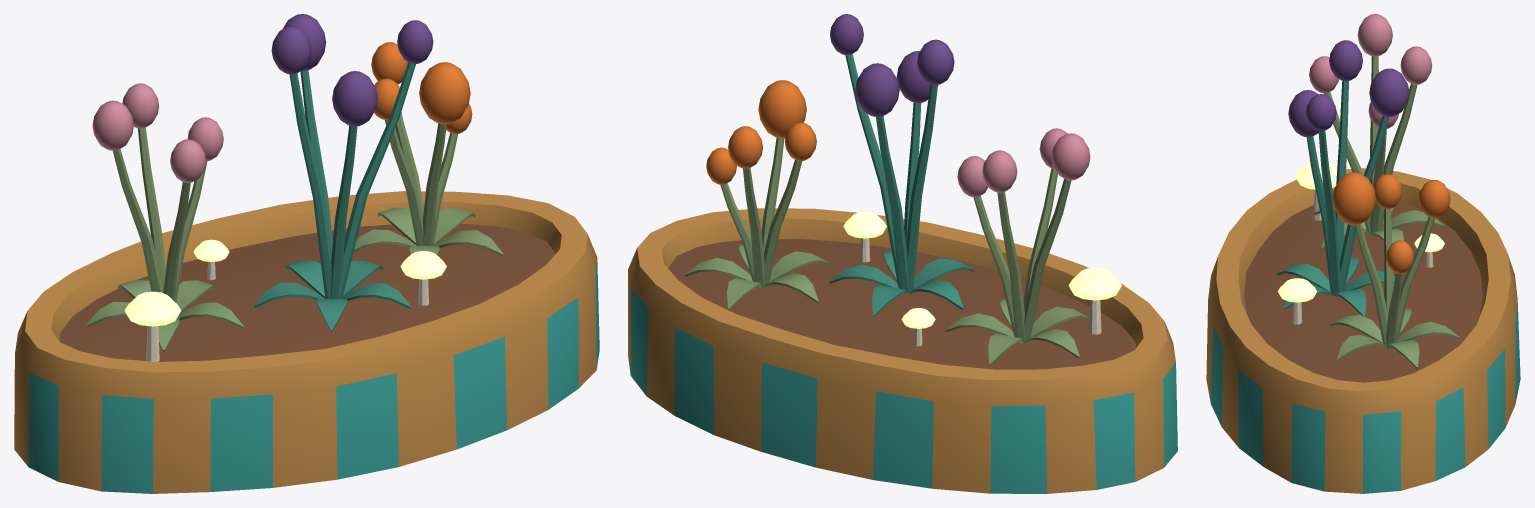
File: deco_planter_bed_bulbs.fbx
3 views of the same model, side by side, from view 1: azimuth 30°, elevation 25°; view 2: azimuth 150°, elevation 25°; view 3: azimuth 270°, elevation 25° (orthographic). The views are drawn at different scales.
Parts seen in each view (by area): view 1: PlanterBed_Bulbs_Bed, PlanterBed_Bulbs_Soil, PlanterBed_Bulbs_Bulbs2, PlanterBed_Bulbs_Bulbs1, PlanterBed_Bulbs_Bulbs3, PlanterBed_Bulbs_Mushrooms; view 2: PlanterBed_Bulbs_Bed, PlanterBed_Bulbs_Soil, PlanterBed_Bulbs_Bulbs2, PlanterBed_Bulbs_Bulbs1, PlanterBed_Bulbs_Bulbs3, PlanterBed_Bulbs_Mushrooms; view 3: PlanterBed_Bulbs_Bed, PlanterBed_Bulbs_Soil, PlanterBed_Bulbs_Bulbs2, PlanterBed_Bulbs_Bulbs3, PlanterBed_Bulbs_Bulbs1, PlanterBed_Bulbs_Mushrooms.
Boxes of the visible parts, x1,y1,x2,y2 form: PlanterBed_Bulbs_Bed: (14, 191, 599, 493); PlanterBed_Bulbs_Soil: (59, 223, 555, 361); PlanterBed_Bulbs_Bulbs2: (254, 14, 433, 331); PlanterBed_Bulbs_Bulbs1: (86, 83, 243, 351); PlanterBed_Bulbs_Bulbs3: (354, 42, 503, 255); PlanterBed_Bulbs_Mushrooms: (124, 239, 446, 361); PlanterBed_Bulbs_Bed: (628, 208, 1177, 493); PlanterBed_Bulbs_Soil: (668, 239, 1136, 369); PlanterBed_Bulbs_Bulbs2: (829, 14, 974, 316); PlanterBed_Bulbs_Bulbs1: (945, 128, 1090, 365); PlanterBed_Bulbs_Bulbs3: (684, 80, 829, 309); PlanterBed_Bulbs_Mushrooms: (843, 211, 1121, 346); PlanterBed_Bulbs_Bed: (1206, 168, 1520, 493); PlanterBed_Bulbs_Soil: (1244, 201, 1482, 382); PlanterBed_Bulbs_Bulbs2: (1276, 40, 1409, 316); PlanterBed_Bulbs_Bulbs3: (1329, 172, 1459, 368); PlanterBed_Bulbs_Bulbs1: (1309, 14, 1444, 249); PlanterBed_Bulbs_Mushrooms: (1278, 160, 1444, 324).
Size of the model in its own units: 248 by 165 by 143.
